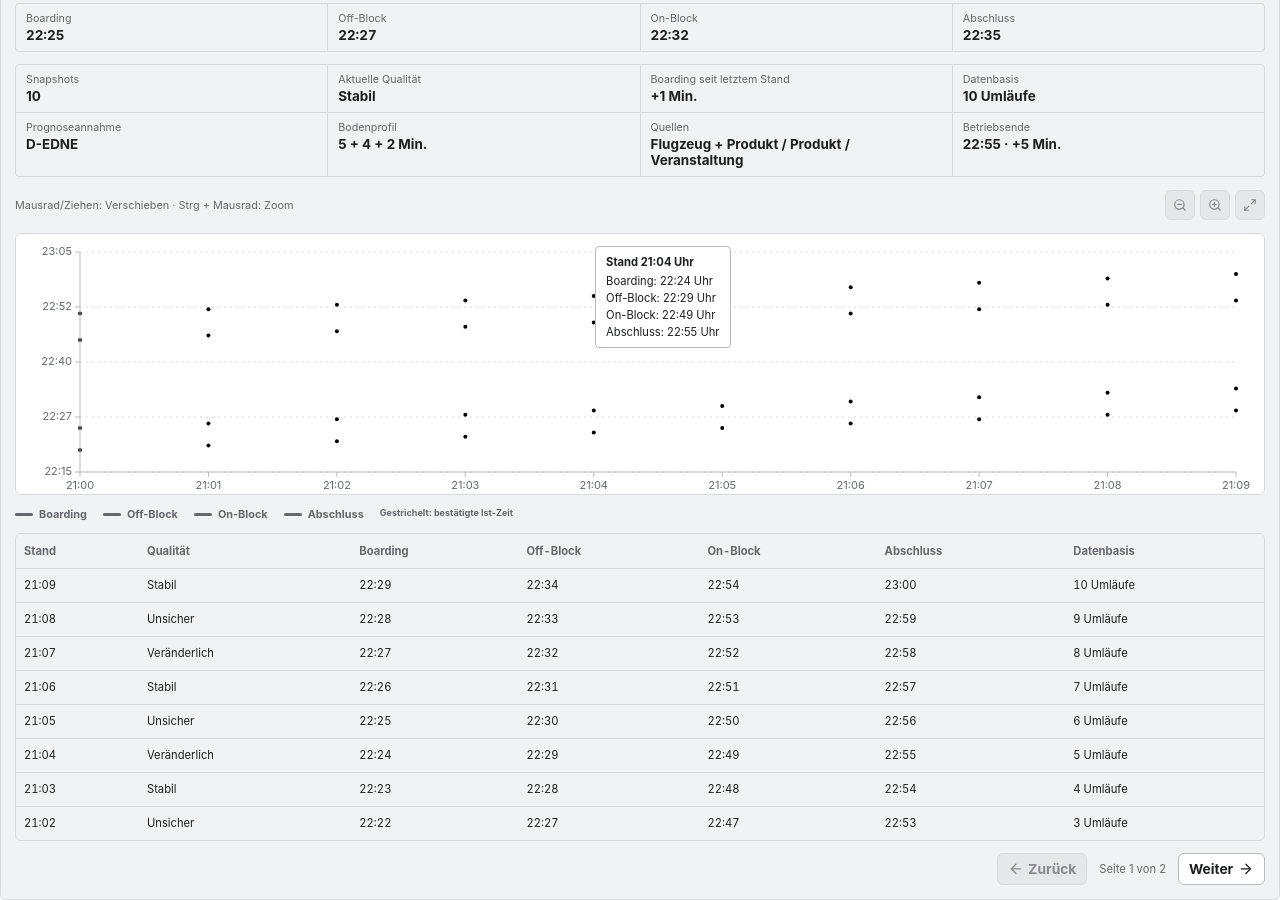
Test: FlightDirectorAnalyticsContent resource timeline › renders the native forecast chart, tooltip, references, metrics, and pagination
(page scrolled)
Expected: the text "10 Umläufe" is shown 2 times, [963, 88, 1036, 104]; [1065, 568, 1264, 602]
Expected: the text "+1 Min." is shown, [650, 88, 698, 104]
Click the button "Weiter" at (1222, 869), box [1178, 853, 1265, 885]
(page scrolled)
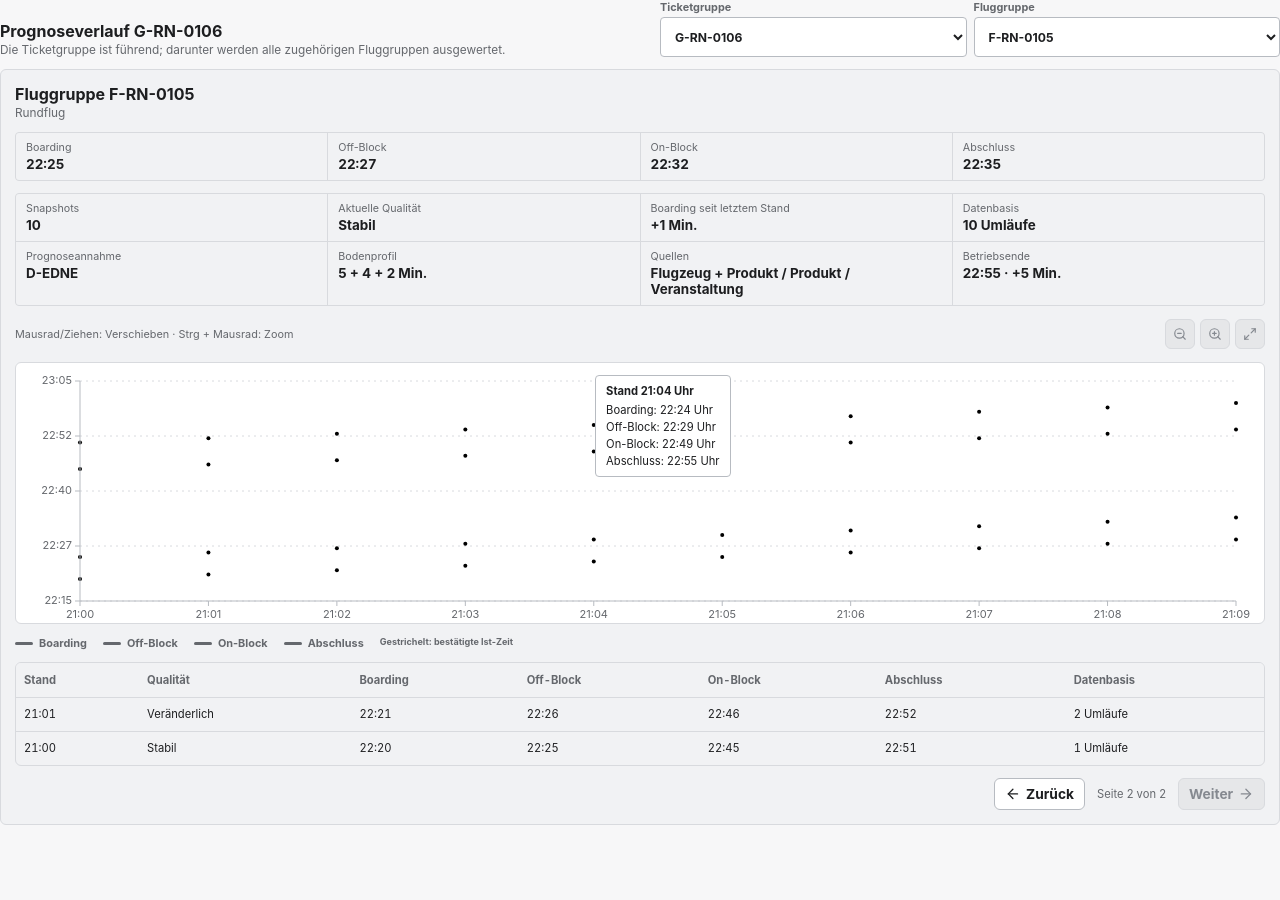
Expected: the text "Stabil" is shown, [338, 217, 376, 233]
Now the text "Seite 2 von 2" is shown, box [1097, 787, 1166, 801]
Now the number of rows is 3, box [16, 663, 1264, 697]; [16, 697, 1264, 731]; [16, 731, 1264, 765]
Click the button "Zurück" at (1040, 794), box [994, 778, 1085, 810]
(page scrolled)
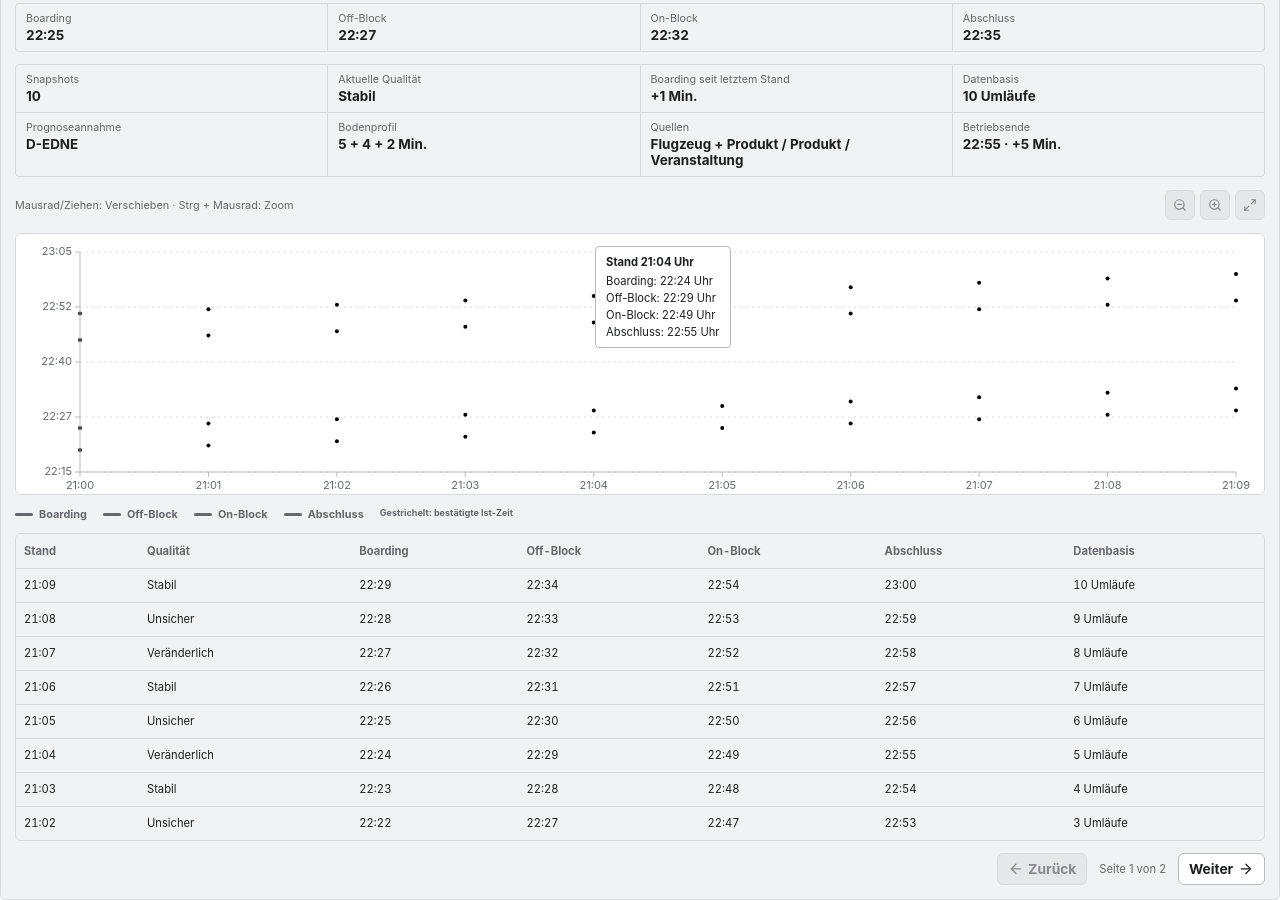
Now the text "Seite 1 von 2" is shown, box [1099, 862, 1166, 876]
